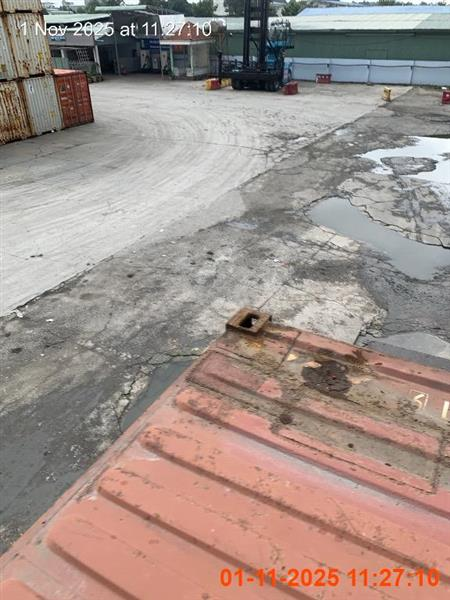broken: (0, 305, 448, 598), (0, 306, 448, 598)
